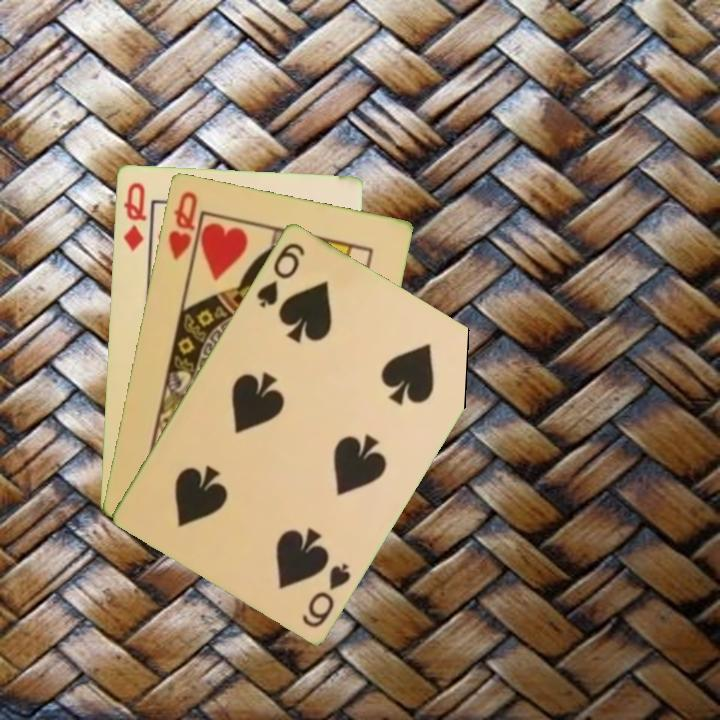6s: (252, 238, 308, 311), (298, 558, 354, 630)
Qd: (119, 178, 149, 253)
Qh: (164, 187, 200, 263)
